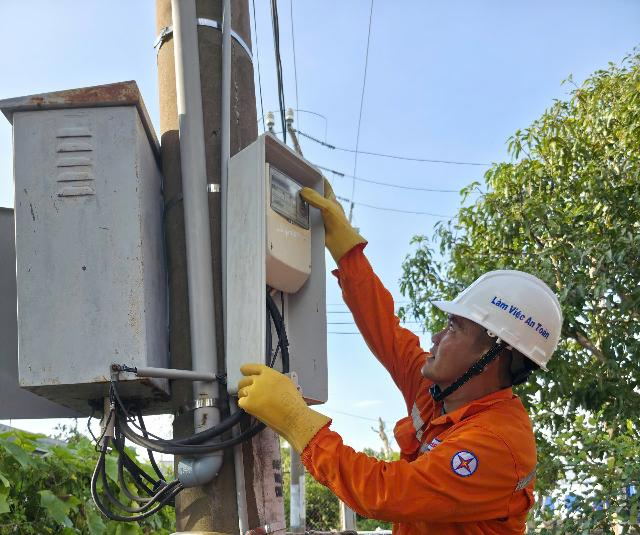gloves: (227, 343, 330, 459), (288, 168, 389, 276)
helmet: (427, 253, 572, 388)
